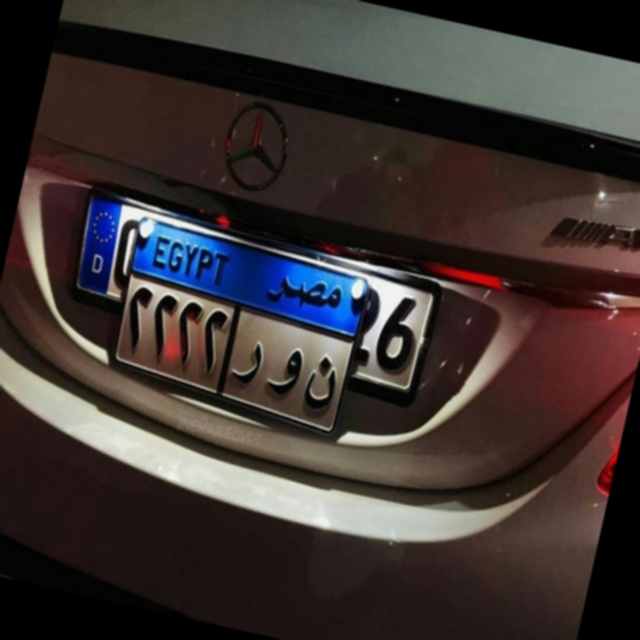License Plate: (98, 212, 375, 443)
